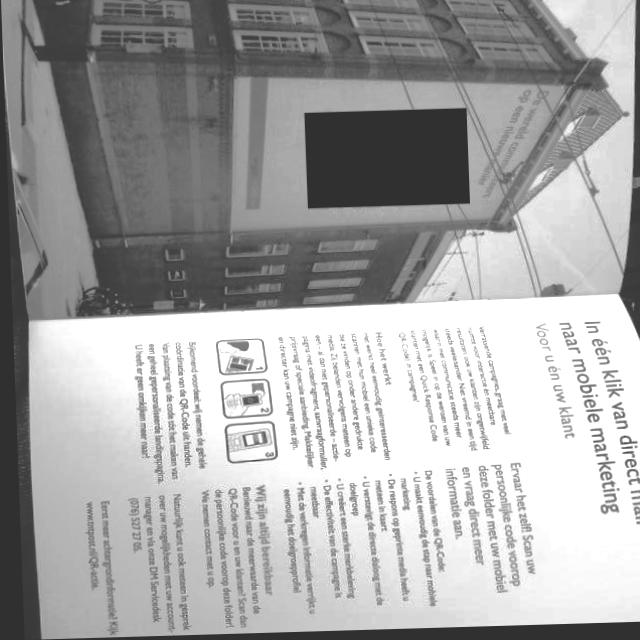qr_code: (303, 111, 467, 210)
